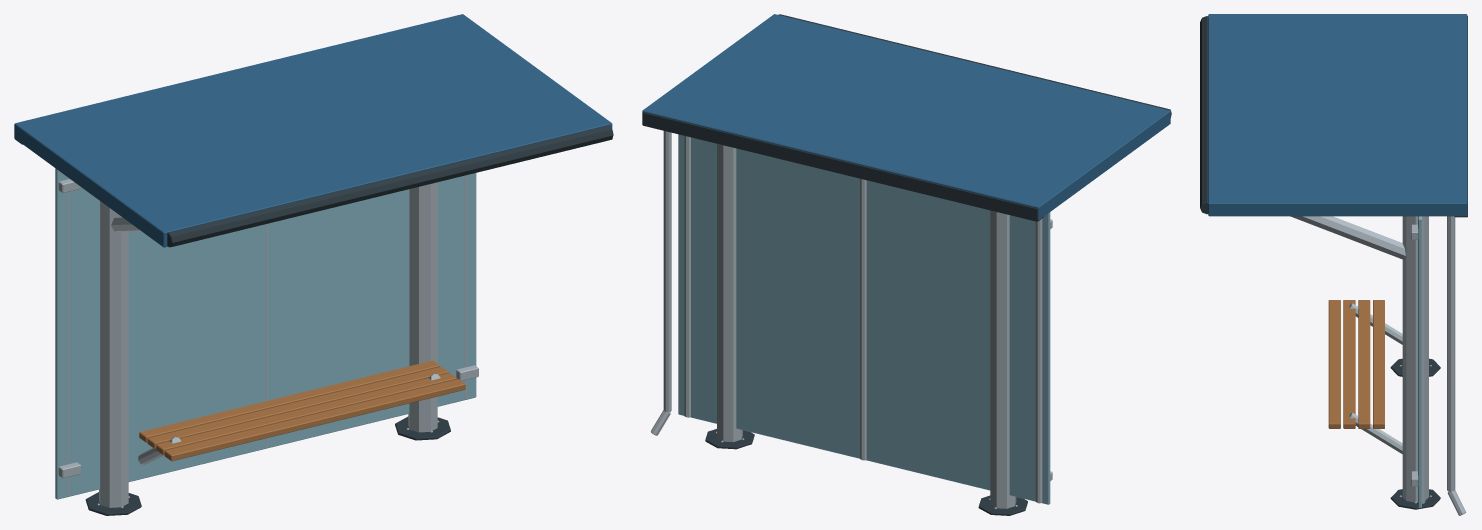
The model's file is b01_cantilever_transit_shelter.glb.
3 views of the same model, side by side, from view 1: azimuth 30°, elevation 25°; view 2: azimuth 150°, elevation 25°; view 3: azimuth 270°, elevation 25° (orthographic). The views are drawn at different scales.
Visible parts, largest first — view 1: b01_cantilever_transit_shelter; view 2: b01_cantilever_transit_shelter; view 3: b01_cantilever_transit_shelter.
Part boxes in pixels (box(x1,y1,x2,y2)): b01_cantilever_transit_shelter: box(14, 14, 613, 515); b01_cantilever_transit_shelter: box(642, 14, 1171, 515); b01_cantilever_transit_shelter: box(1200, 14, 1467, 515).
Size of the model in its own units: 3.05 by 2.44 by 1.82.
